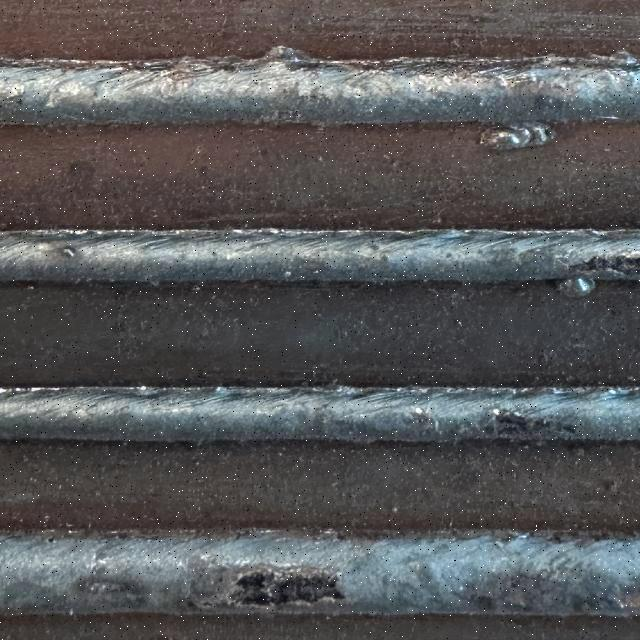Excess Reinforcement: (480, 122, 555, 150), (565, 50, 640, 67), (257, 46, 320, 63), (557, 278, 595, 298), (207, 56, 243, 61)
Spatters: (63, 246, 77, 258)
